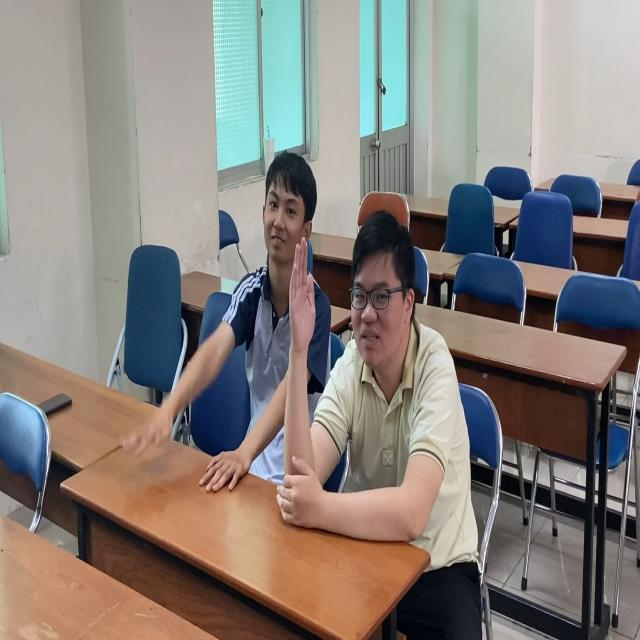raise_hand: (287, 200, 473, 546)
